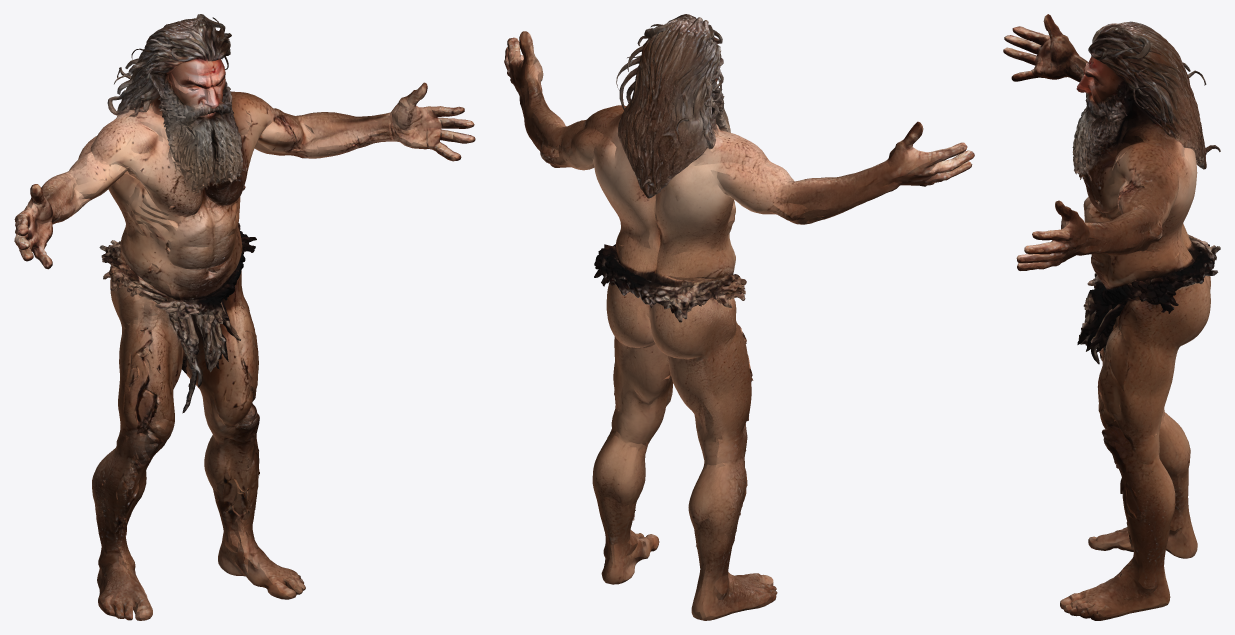
File: enkidu_rodin_source.glb
3 renders of one model, left to right at view 1: azimuth 30°, elevation 25°; view 2: azimuth 150°, elevation 25°; view 3: azimuth 270°, elevation 25°, orthographic. The views are drawn at different scales.
Parts seen in each view (by area): view 1: model; view 2: model; view 3: model.
Boxes of the visible parts, <box> form: model: <box>14,14,475,620</box>; model: <box>504,14,974,620</box>; model: <box>1003,14,1220,620</box>.
Bounding box in the file's own units: 1.62 × 1.9 × 0.6787.
1 material, 1 textured.
